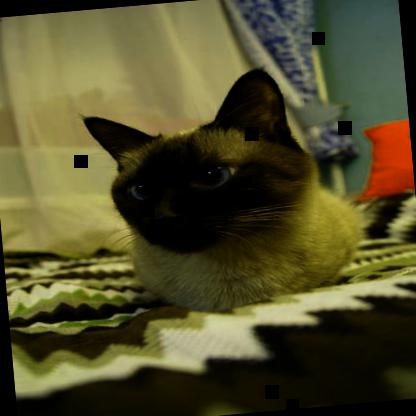cat: (79, 61, 368, 323)
